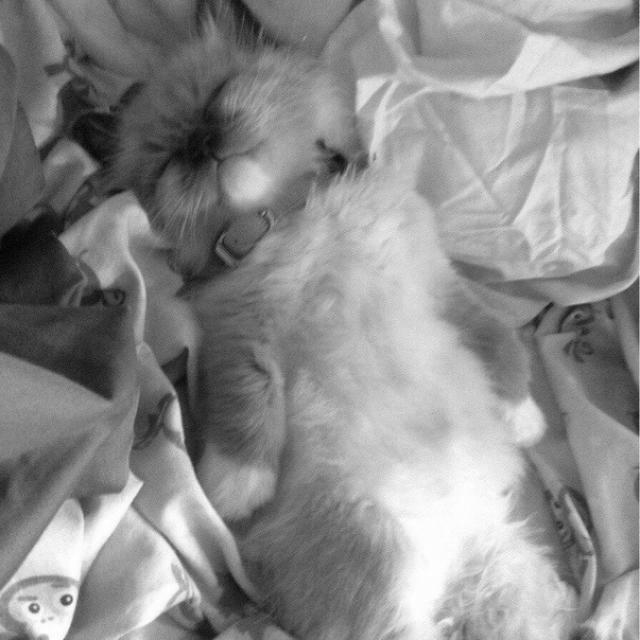Cat: (71, 0, 584, 638)
